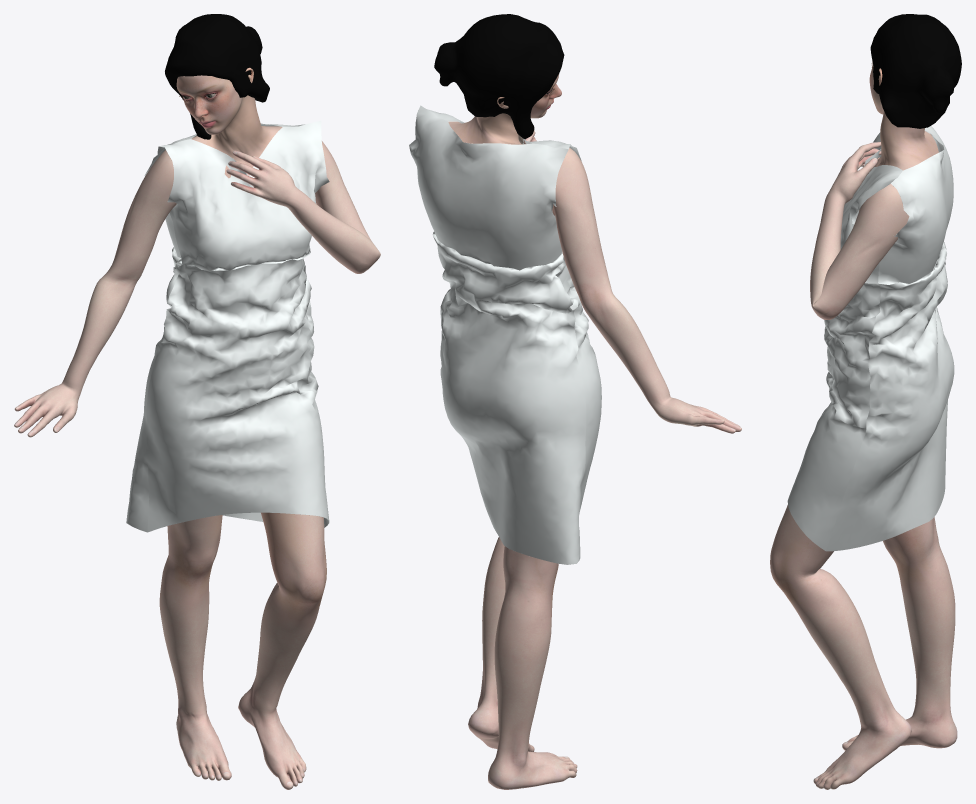
The model's file is random.obj.
3 renders of one model, left to right at view 1: azimuth 30°, elevation 25°; view 2: azimuth 150°, elevation 25°; view 3: azimuth 270°, elevation 25°, orthographic. The views are drawn at different scales.
Size of the model in its own units: 813 by 1767 by 408.
